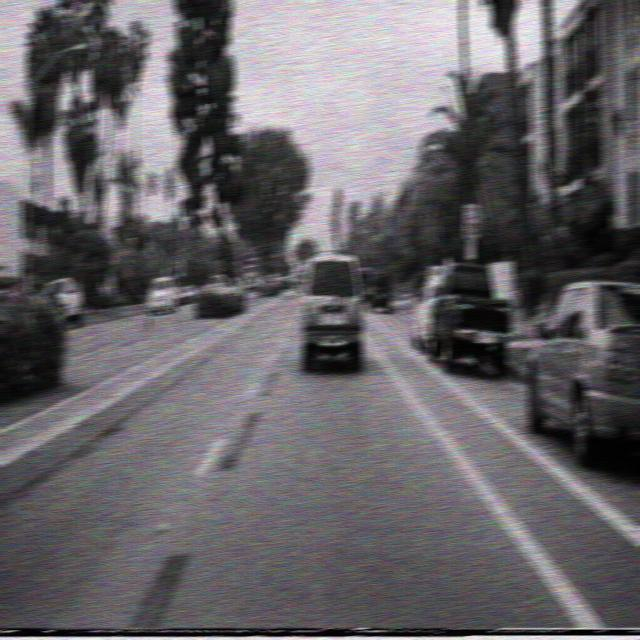speedLimit35: (461, 201, 480, 239)
